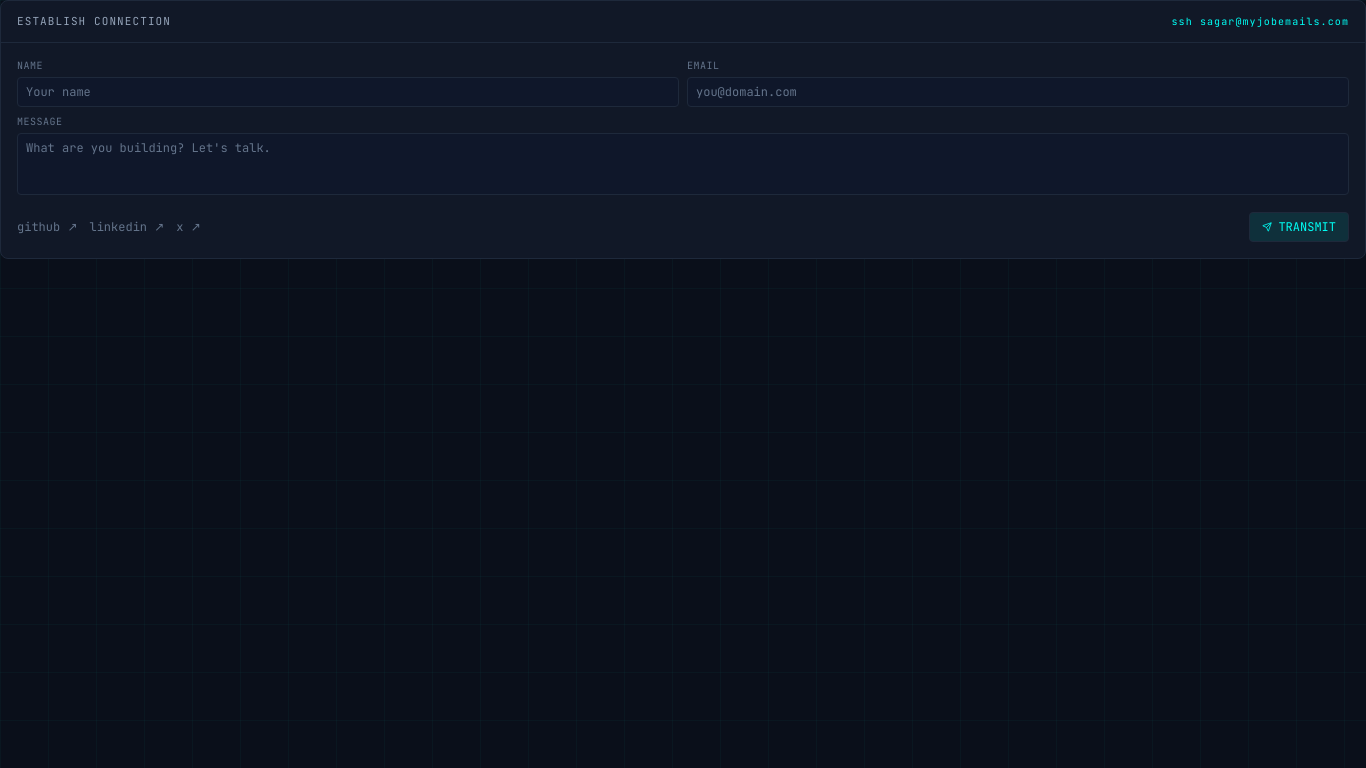
ContactCard › shows a failure message that clears when the user edits the form
This screenshot has width=1366, height=768.
Step 1. Type "Ada" into the field with placeholder "Your name" → [348, 92], box [17,77,679,107]
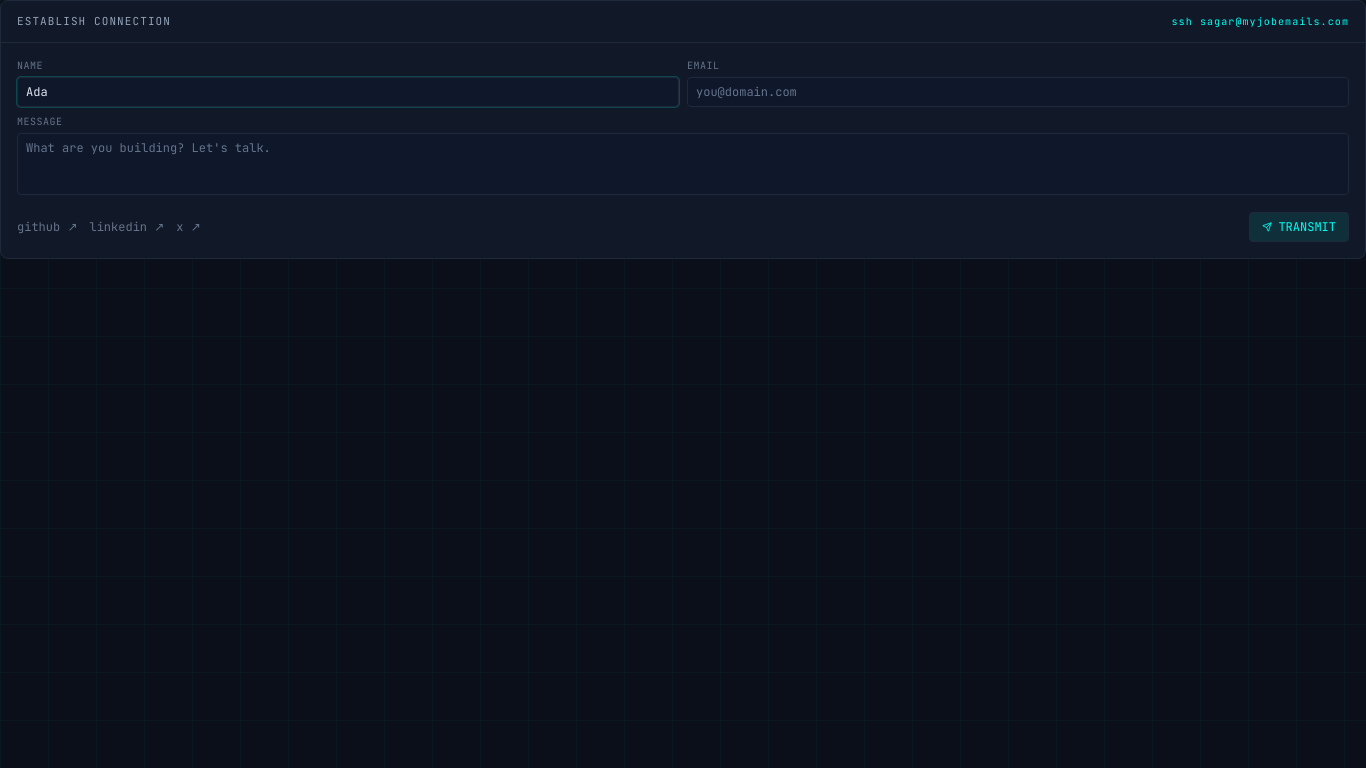
Step 2. Type "ada@example.com" into the field with placeholder "you@domain.com" → [1018, 92], box [687,77,1349,107]
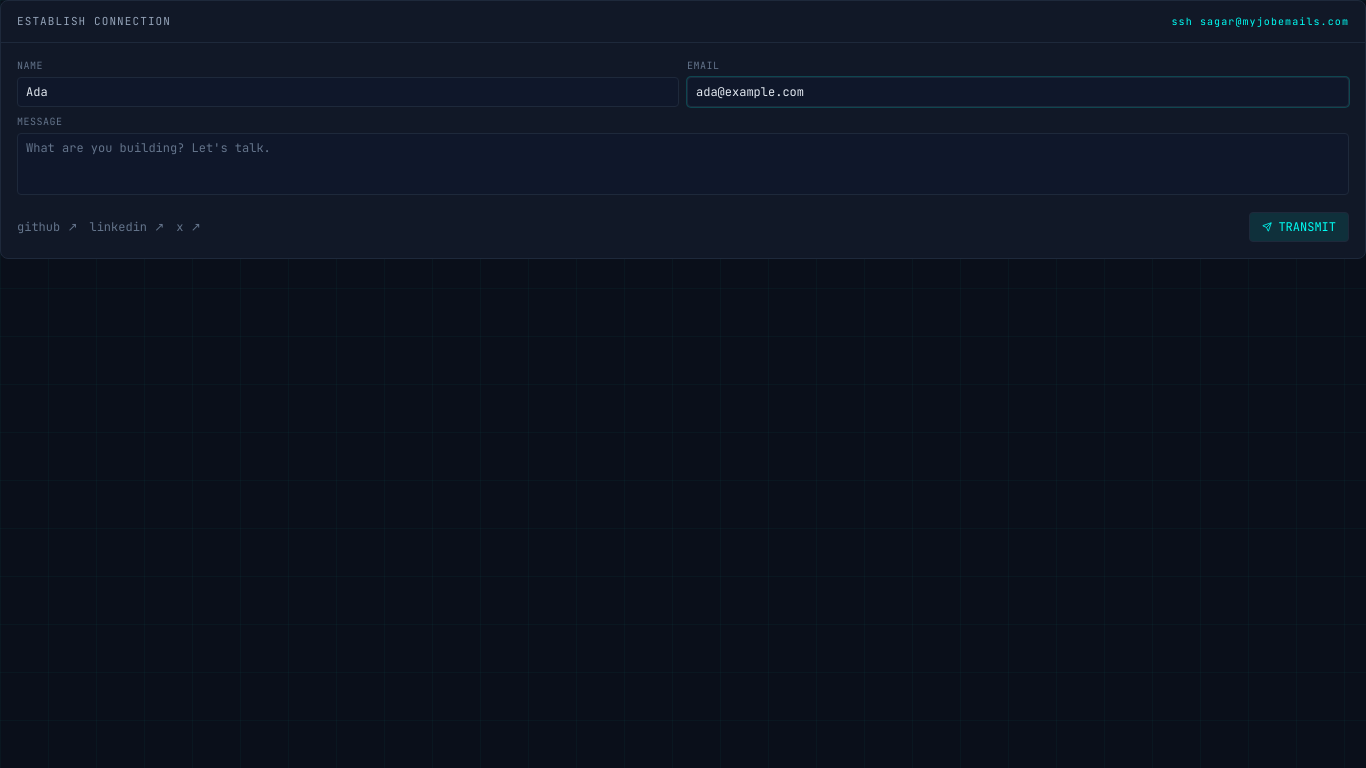
Step 3. Type "Let's build something" into the text box with placeholder "What are you building? Let's talk." → [683, 164], box [17,133,1349,195]
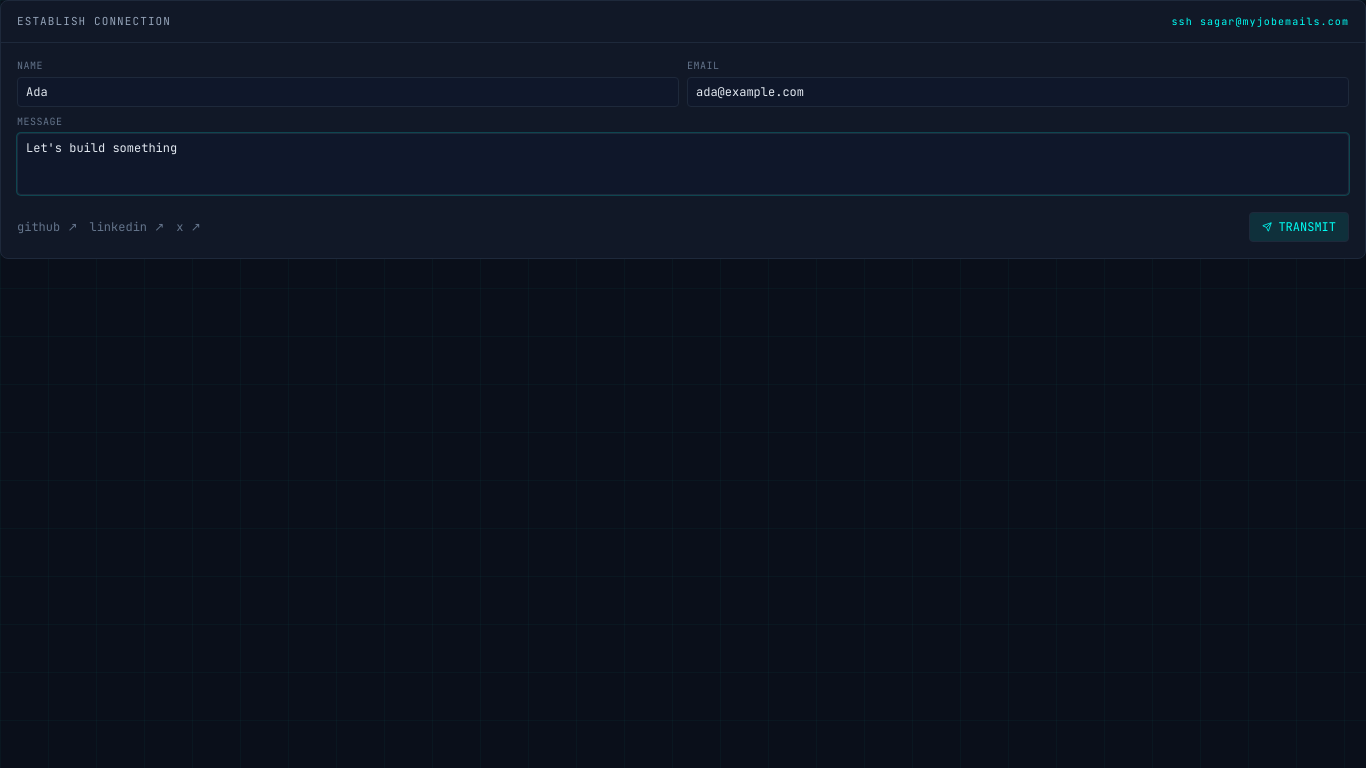
Step 4. Click the button "TRANSMIT" → [1299, 227], box [1249,212,1349,242]
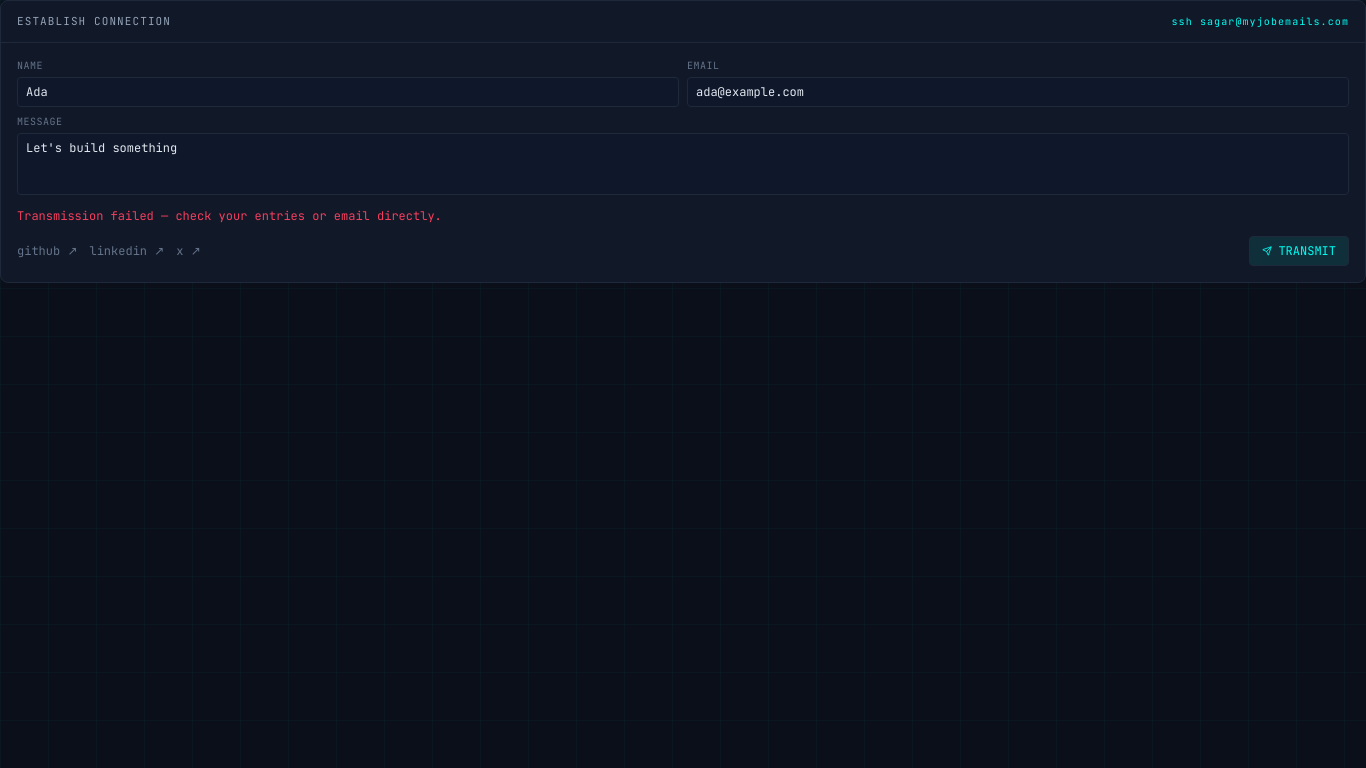
Expected: the text "Transmission failed — check your entries or email directly." is shown, [17,208,442,224]
Step 5. Type "x" into the field with placeholder "Your name" below "name" → [348, 92], box [17,77,679,107]
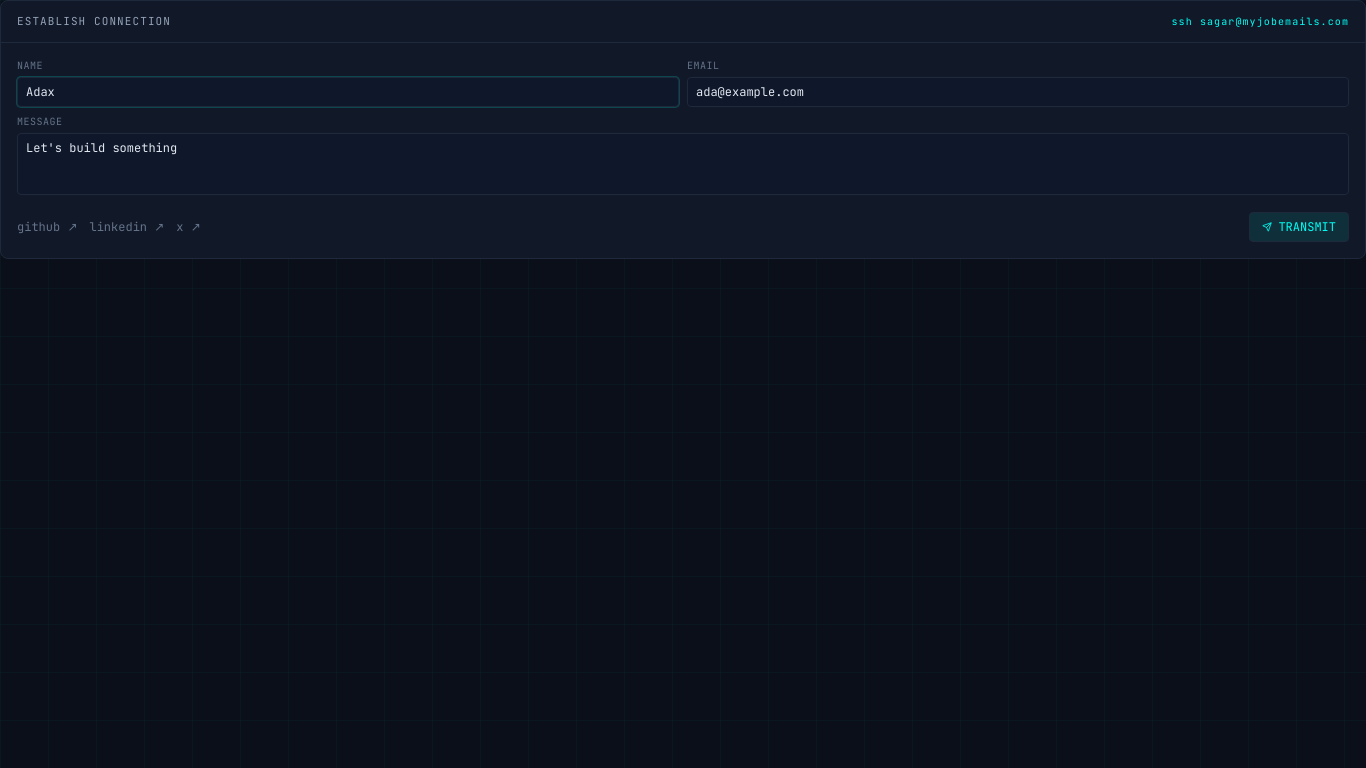
Expected: the text "Transmission failed" is gone
